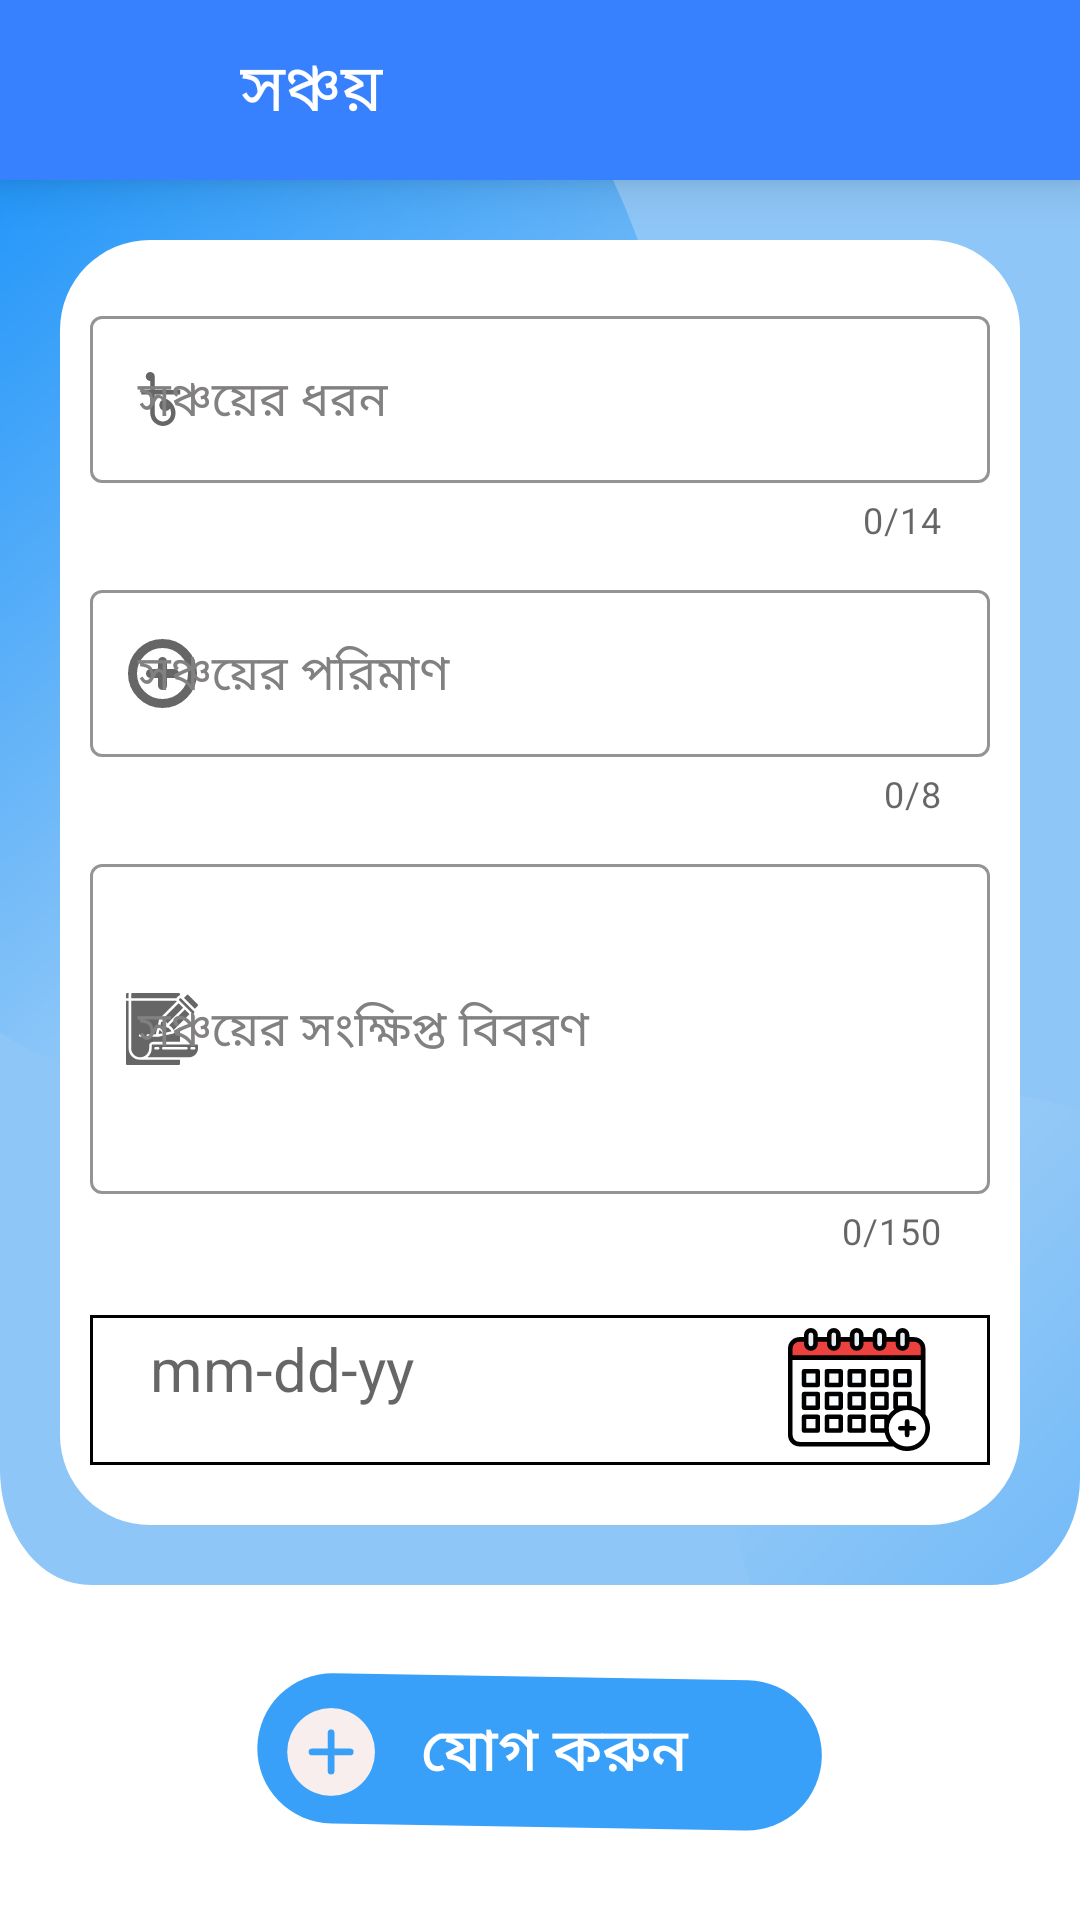

Screen size 1080 × 1920. Icon name, then its box in pixels as (x1, y1, x2, y2):
calender: (788, 1328, 930, 1451)
